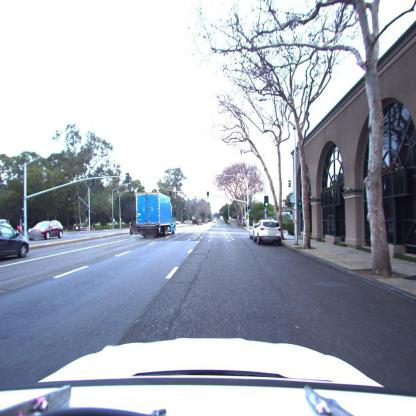car: (0, 222, 30, 262), (252, 221, 283, 247), (28, 221, 64, 241)
truck: (131, 193, 176, 237)
